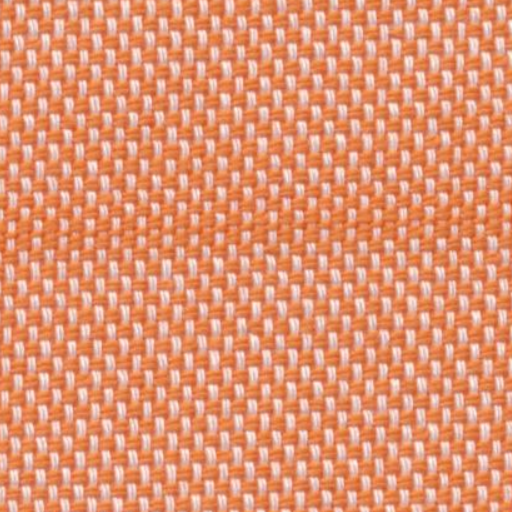TuoSha: (9, 166, 492, 276)
